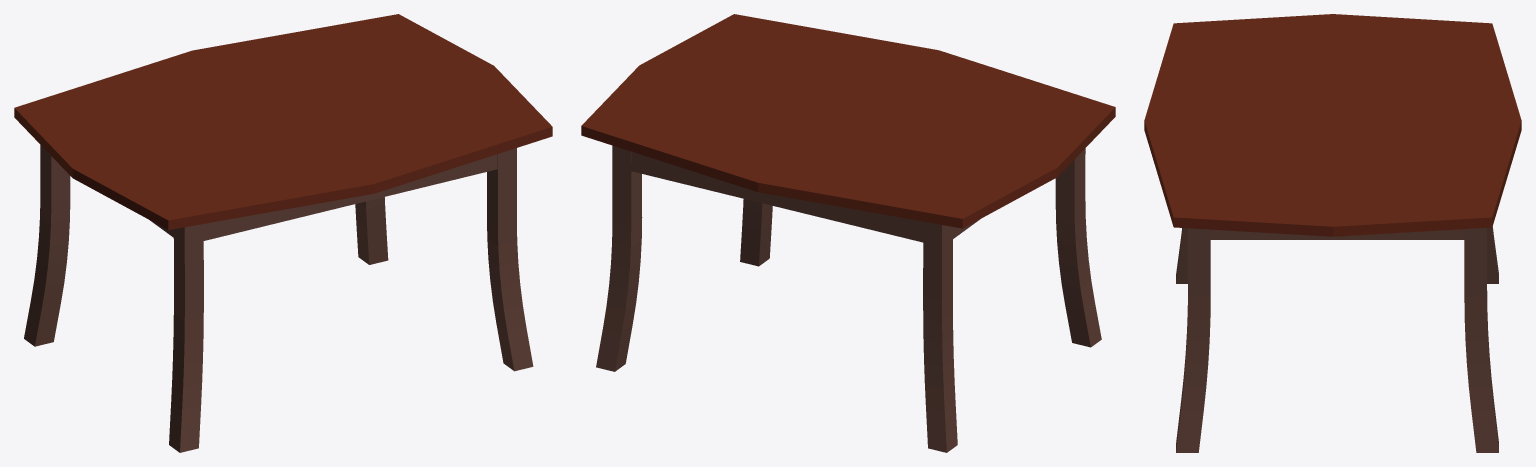
File: Table.fbx
3 renders of one model, left to right at view 1: azimuth 30°, elevation 25°; view 2: azimuth 150°, elevation 25°; view 3: azimuth 270°, elevation 25°, orthographic. The views are drawn at different scales.
Parts seen in each view (by area): view 1: Box001, Box004, Box005, Box003, Box007, Box002; view 2: Box001, Box003, Box002, Box004, Box006, Box005; view 3: Box001, Box002, Box005, Box008, Box003, Box004.
Part boxes in pixels (x1,y1,x2,y2): Box001: (14,14,552,229); Box004: (169,224,203,452); Box005: (487,148,533,371); Box003: (24,145,70,346); Box007: (203,154,497,240); Box002: (355,197,388,264); Box001: (581,14,1115,228); Box003: (923,221,957,452); Box002: (596,145,642,371); Box004: (1055,148,1101,347); Box006: (631,151,923,242); Box005: (740,199,772,266); Box001: (1144,14,1521,236); Box002: (1464,227,1498,452); Box005: (1176,228,1210,452); Box008: (1210,229,1464,239); Box003: (1487,227,1498,283); Box004: (1176,228,1187,283).
Bounding box in the file's own units: 0.1631 × 0.0875 × 0.1222.
